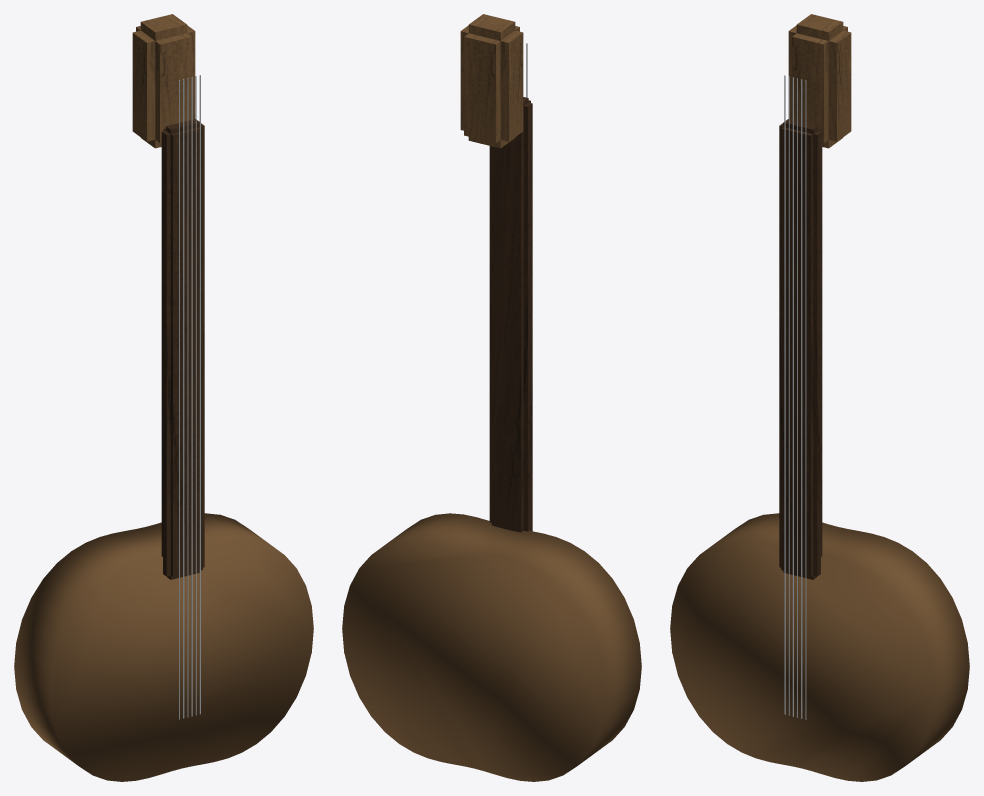
File: sku_guitar.glb
The picture shows the model from 3 angles, left to right: view 1: azimuth 30°, elevation 25°; view 2: azimuth 150°, elevation 25°; view 3: azimuth 330°, elevation 25°; orthographic projection.
Visible parts, largest first — view 1: sku_guitar_CC0_Oak_veneer, sku_guitar_CC0_Smoked_walnut, sku_guitar_Brushed_stainless; view 2: sku_guitar_CC0_Oak_veneer, sku_guitar_CC0_Smoked_walnut; view 3: sku_guitar_CC0_Oak_veneer, sku_guitar_CC0_Smoked_walnut, sku_guitar_Brushed_stainless.
Part boxes in pixels (x1,y1,x2,y2): sku_guitar_CC0_Oak_veneer: [14, 14, 313, 781]; sku_guitar_CC0_Smoked_walnut: [161, 119, 204, 579]; sku_guitar_Brushed_stainless: [179, 75, 200, 719]; sku_guitar_CC0_Oak_veneer: [342, 14, 641, 781]; sku_guitar_CC0_Smoked_walnut: [489, 97, 532, 532]; sku_guitar_CC0_Oak_veneer: [670, 14, 969, 781]; sku_guitar_CC0_Smoked_walnut: [779, 119, 822, 579]; sku_guitar_Brushed_stainless: [784, 75, 806, 719].
Size of the model in its own units: 0.38 by 1.01 by 0.1087.
Materials: 3 (2 with a texture image).
